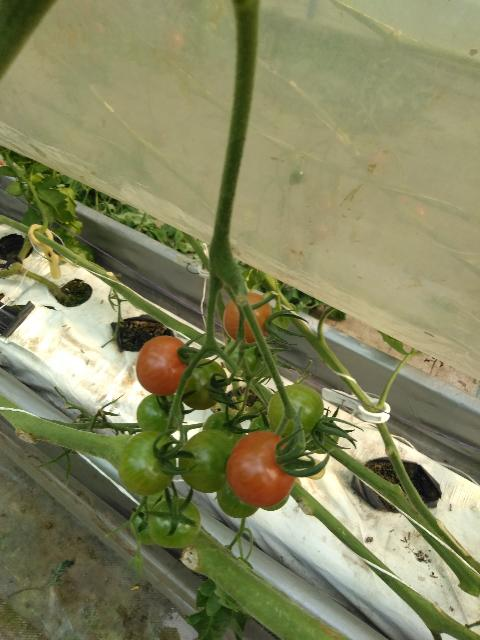l_fully_ripened: (227, 431, 296, 507), (136, 335, 189, 396)
l_green: (118, 430, 177, 496), (178, 429, 235, 493), (267, 384, 325, 446), (147, 497, 201, 549), (175, 359, 227, 411), (137, 394, 184, 436), (302, 414, 339, 454), (202, 411, 244, 446), (217, 486, 261, 519), (241, 341, 277, 378), (129, 503, 158, 546), (224, 338, 251, 377), (247, 415, 274, 435)
l_half_ripened: (222, 292, 273, 345)
